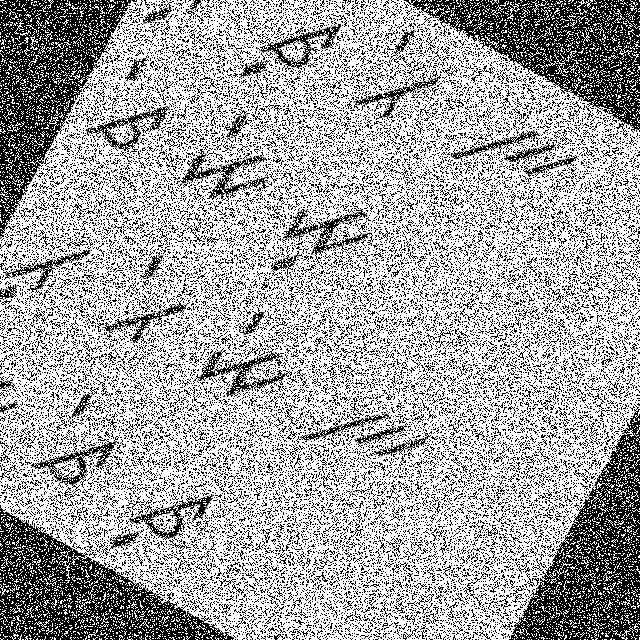be: (83, 236, 210, 374), (341, 13, 462, 142)
bu: (0, 199, 106, 344), (127, 0, 260, 65)
ce: (72, 42, 194, 174), (20, 379, 142, 508)
cu: (106, 459, 227, 588), (232, 0, 355, 112)
me: (166, 88, 302, 226), (190, 287, 316, 422)
mu: (248, 162, 394, 315), (0, 341, 39, 484)
